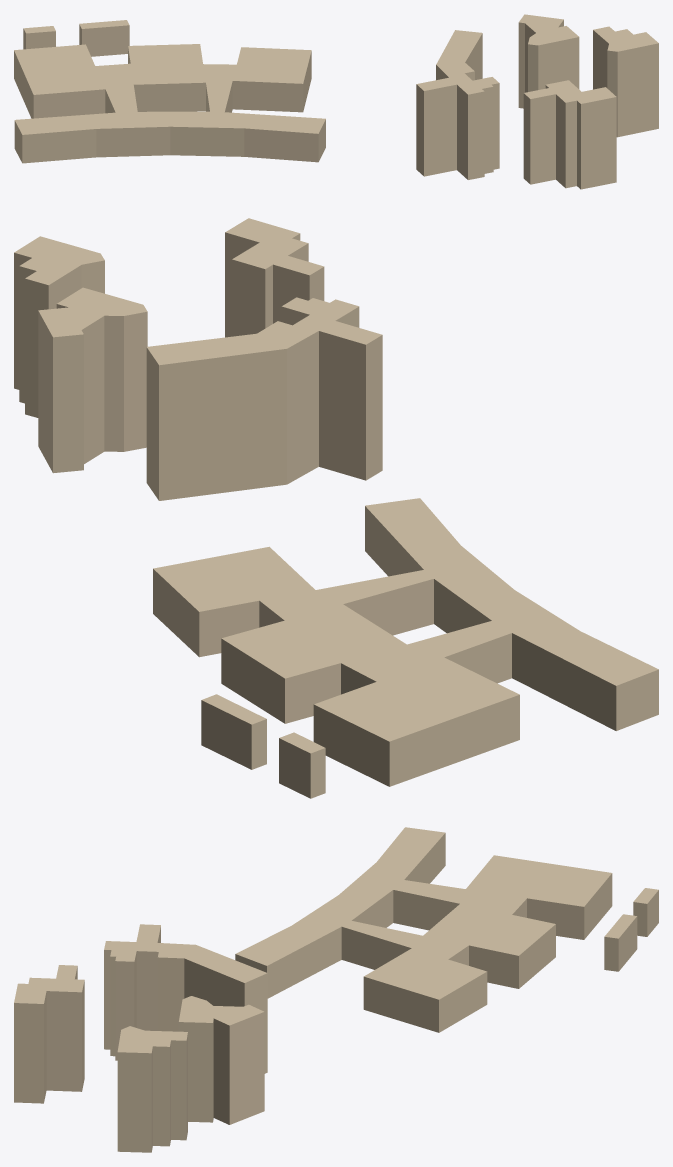
File: 4_4-estimated-coarse.glb
3 renders of one model, top to bottom at view 1: azimuth 30°, elevation 25°; view 2: azimuth 150°, elevation 25°; view 3: azimuth 270°, elevation 25°, orthographic. The views are drawn at different scales.
Bounding box in the file's own units: 227 × 36 × 211.
